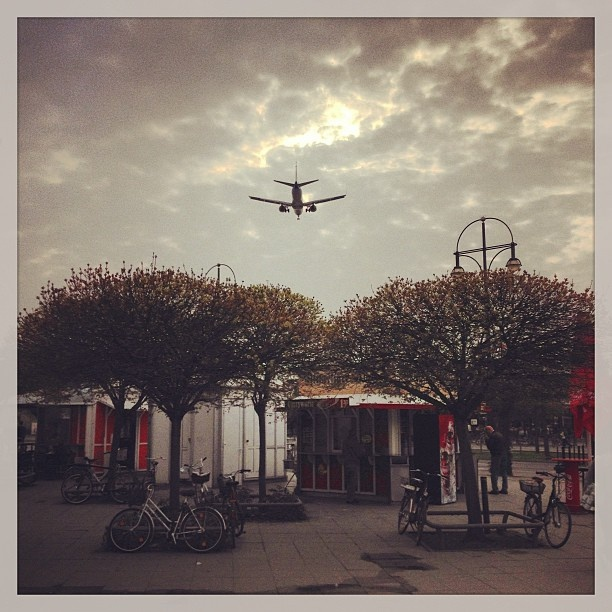non-vehicle: (110, 478, 224, 554), (59, 450, 140, 502), (522, 470, 577, 546), (396, 468, 447, 545), (221, 467, 251, 548), (184, 455, 210, 504)
